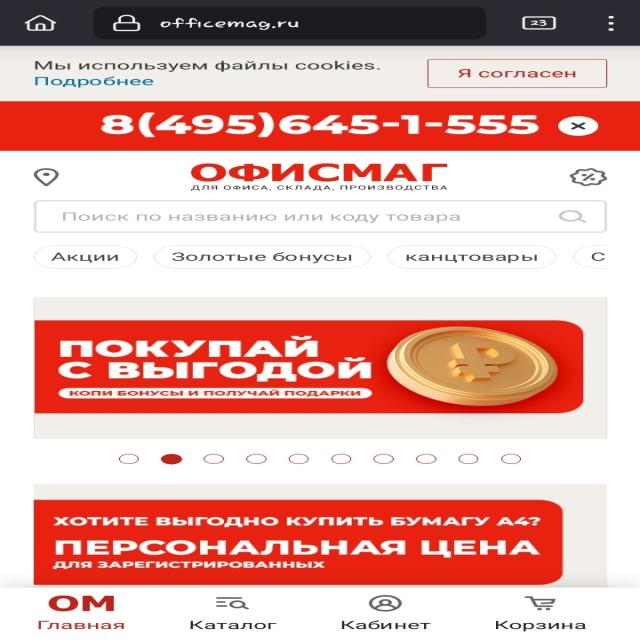button: (428, 58, 612, 88), (560, 117, 599, 136)
site: (1, 45, 640, 102), (0, 102, 640, 152)
